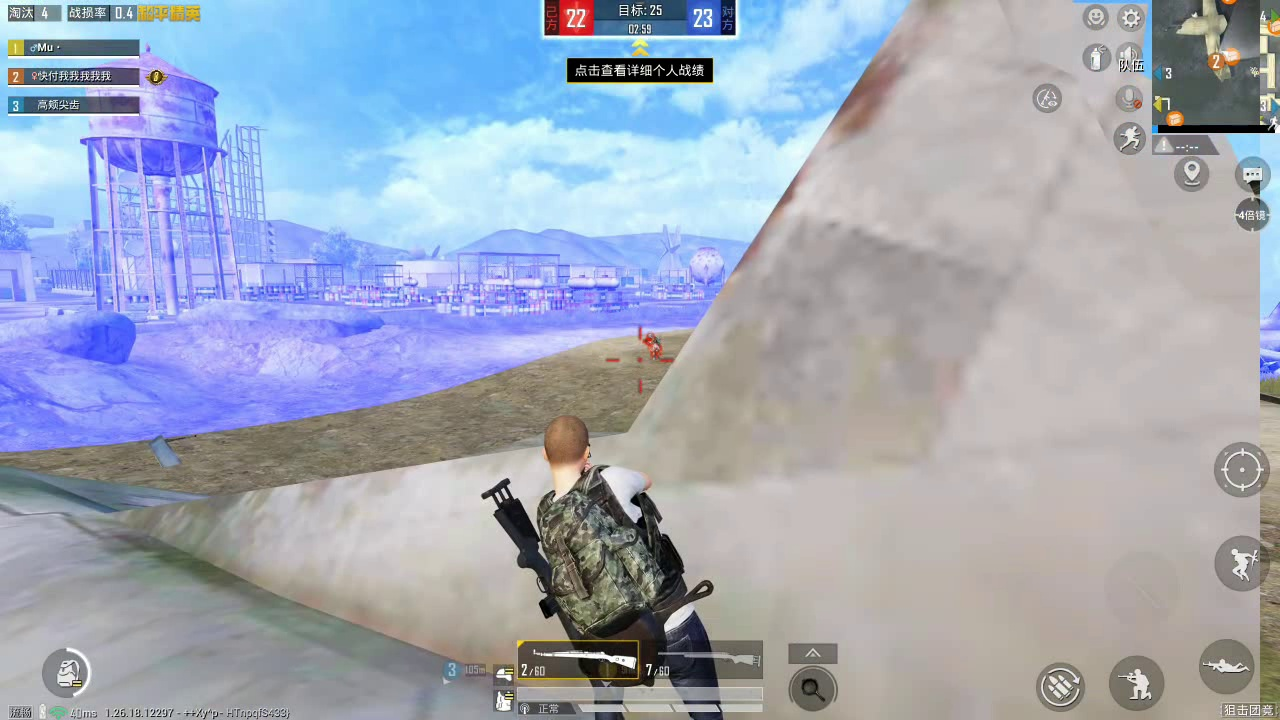enemy: (641, 327, 663, 359)
